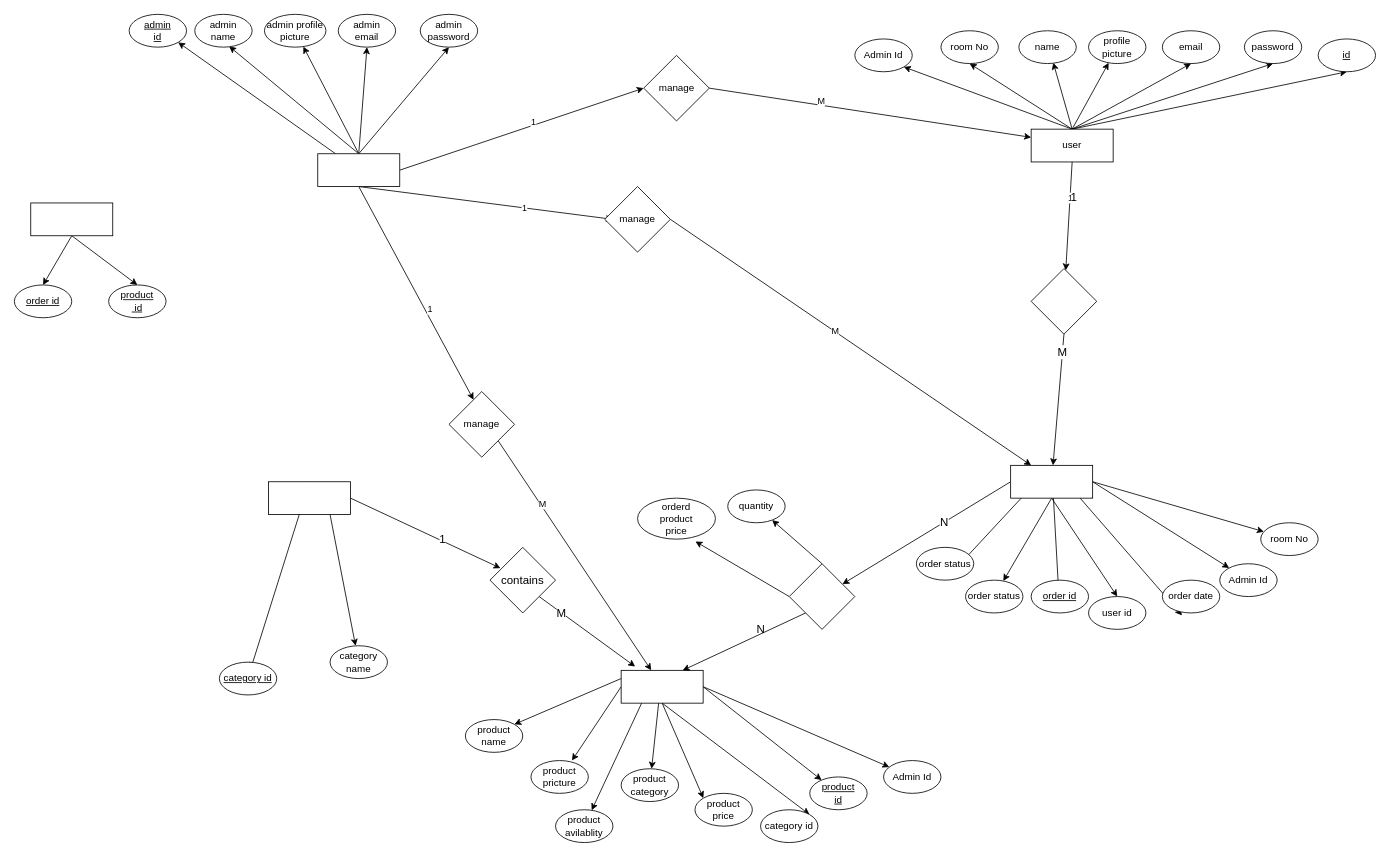
The diagram is 1390 pixels wide and 857 high, and some of its shapes have lost their labels. Here are the shapes that lost their labels. From the top down, the box of each, then its label:
(317, 153, 400, 187): admin
(30, 202, 113, 236): orderd products
(1030, 268, 1097, 334): make
(268, 481, 351, 515): category
(1010, 465, 1093, 498): orders
(788, 563, 855, 629): have
(620, 670, 703, 703): product
